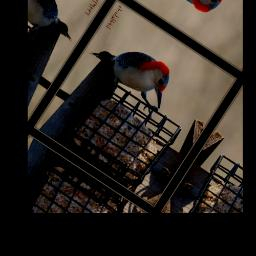Woodpecker: (79, 26, 181, 119)
